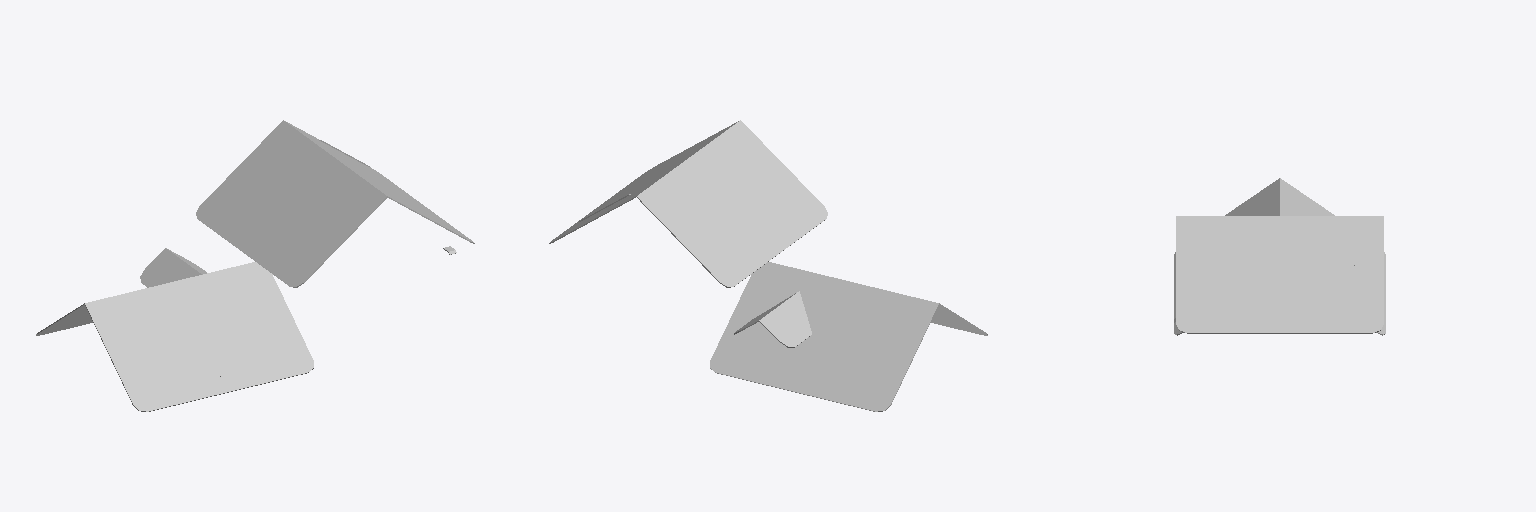
File: building-type-b_roof.obj
3 views of the same model, side by side, from view 1: azimuth 30°, elevation 25°; view 2: azimuth 150°, elevation 25°; view 3: azimuth 270°, elevation 25° (orthographic).
Visible parts, largest first — view 1: building-type-b.001; view 2: building-type-b.001; view 3: building-type-b.001.
Boxes of the visible parts, x1=… form: building-type-b.001: x1=36, y1=120, x2=474, y2=411; building-type-b.001: x1=549, y1=120, x2=987, y2=411; building-type-b.001: x1=1174, y1=178, x2=1385, y2=335.
Bounding box in the file's own units: 1.71 × 0.7475 × 0.916.